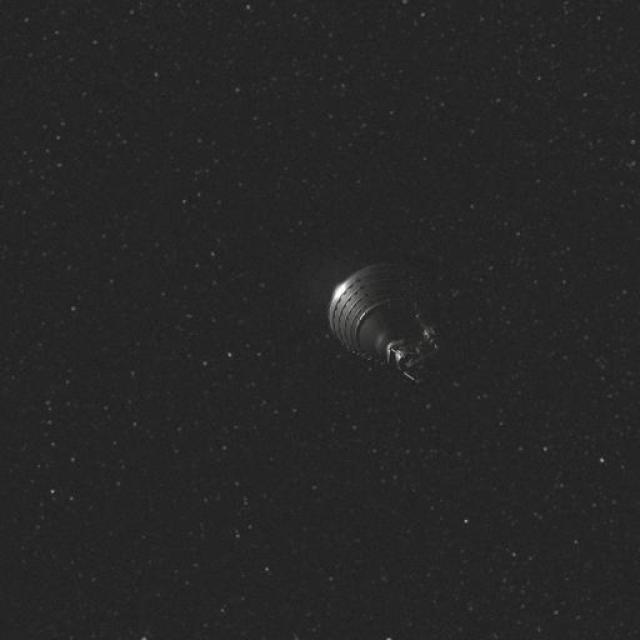debris: (314, 249, 462, 401)
